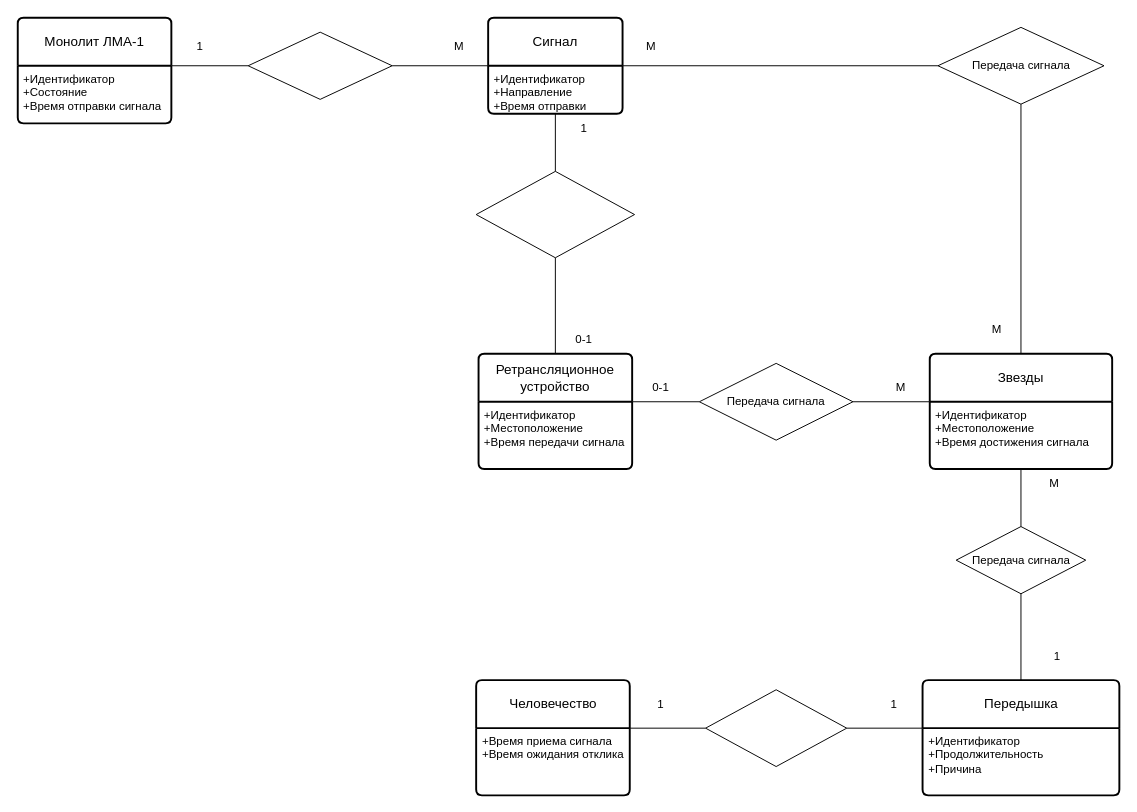
Some shapes in this 1137 by 812 pixel diagram are drawn without their labels. Here are the shapes that lost their labels. From the top down, the centre of each, then its label:
At (x=319, y=65): "Отправка сигнала".
At (x=555, y=214): "Увеличение мощности".
At (x=776, y=728): "Получение сигнала".
